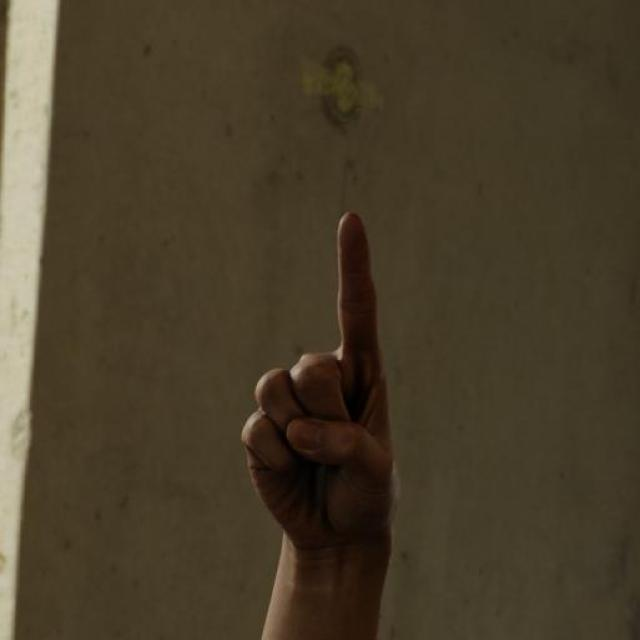Z: (233, 205, 398, 620)
